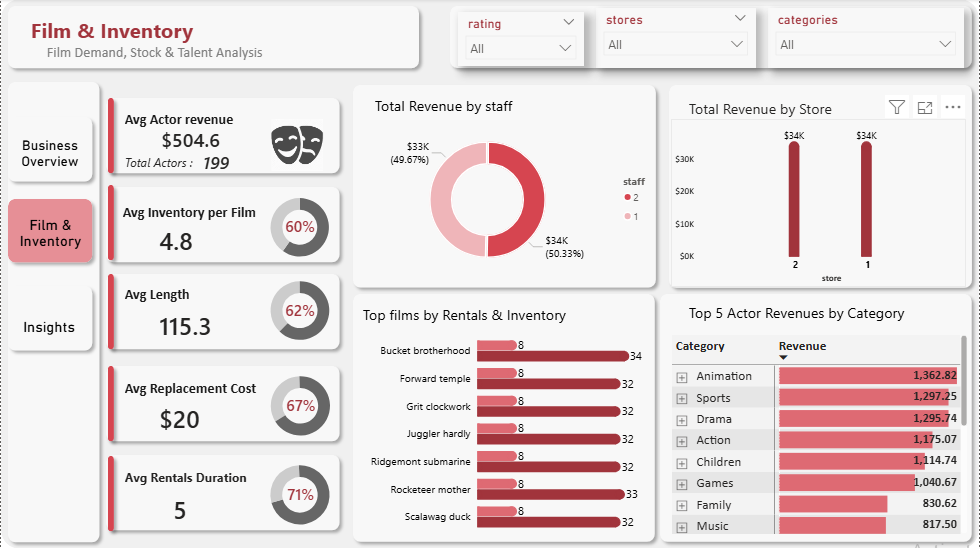

Layout of this report page (visuals, bound fields, positions):
{"tool":"powerbi","page":{"name":"film & inventory","canvas":[1280,720],"ordinal":1},"visuals":[{"type":"shape","box":[0,0,1280.2,720],"z":0},{"type":"shape","box":[853.8,377.1,426.2,342.4],"z":1000},{"type":"shape","box":[865.4,103.7,414.7,283.7],"z":2000},{"type":"shape","box":[452.2,377.1,413.2,342.4],"z":3000},{"type":"pivotTable","fields":{"Rows":["best actor vs avg category.category","best actor vs avg category.actor_name"],"Values":["Sum(best actor vs avg category.revenue)"]},"box":[872.6,434.9,397.3,270.2],"z":4000},{"type":"shape","box":[0,0,556.2,99.7],"z":5000},{"type":"shape","box":[0,99.4,138,620.6],"z":6000},{"type":"shape","box":[578.7,0,701.3,99.4],"z":7000},{"type":"shape","box":[128.2,121,324,116.6],"z":8000},{"type":"shape","box":[452.2,104,414.6,283.2],"z":9000},{"type":"donutChart","fields":{"Category":["staff.staff_id"],"Y":["Sum(payment.amount)"]},"box":[453.6,157.5,413.2,210.9],"z":10000},{"type":"shape","box":[128.2,237.6,324,116.6],"z":11000},{"type":"shape","box":[128.2,351.4,324,116.6],"z":12000},{"type":"shape","box":[128.2,470.9,324,116.6],"z":13000},{"type":"shape","box":[128.2,587.5,324,116.6],"z":14000},{"type":"columnChart","fields":{"Category":["store.store_id"],"Y":["Sum(payment.amount)"]},"box":[877,157,385.9,220.3],"z":15000},{"type":"clusteredBarChart","fields":{"Category":["film.title"],"Y":["CountNonNull(inventory.inventory_id)","CountNonNull(rental.rental_id)"]},"box":[468.1,419,375.6,293.3],"z":16000},{"type":"textbox","box":[34.6,17.3,544.3,64.8],"z":17000},{"type":"textbox","box":[54.7,51.8,542.9,37.4],"z":18000},{"type":"textbox","box":[157,139.7,162.7,37.4],"z":19000},{"type":"textbox","box":[154.1,262.1,253.4,37.4],"z":20000},{"type":"textbox","box":[157,368.6,162.7,37.4],"z":21000},{"type":"textbox","box":[157,492.5,237.6,37.4],"z":22000},{"type":"textbox","box":[157,610.6,210.2,37.4],"z":23000},{"type":"shape","box":[131,121,25.9,116.6],"z":24000},{"type":"shape","box":[131,234.7,25.9,116.6],"z":25000},{"type":"shape","box":[131,351.4,25.9,116.6],"z":26000},{"type":"shape","box":[131,470.9,25.9,116.6],"z":27000},{"type":"shape","box":[131,589,25.9,116.6],"z":28000},{"type":"cardVisual","fields":{"Data":["actor.total actor"]},"box":[236.2,178.6,103.7,69.1],"z":29000},{"type":"cardVisual","fields":{"Data":["actor.avg inventory per film"]},"box":[178.6,273.6,167,80.6],"z":30000},{"type":"cardVisual","fields":{"Data":["actor.avg length"]},"box":[178.6,387.4,154.1,76.3],"z":31000},{"type":"cardVisual","fields":{"Data":["actor.avg replacement cost"]},"box":[178.6,509.8,154.1,76.3],"z":32000},{"type":"cardVisual","fields":{"Data":["actor.avg rentals duration"]},"box":[196.5,629.9,137.2,72.2],"z":33000},{"type":"image","box":[290.4,157.5,193.6,67.9],"z":34000},{"type":"cardVisual","fields":{"Data":["actor.per avg replacement cost"]},"box":[343.8,494.1,101.1,72.2],"z":35000},{"type":"donutChart","fields":{"Y":["actor.per avg inventory per film","actor.remaining avg inventory%"]},"box":[317.8,245.6,145.9,105.5],"z":36000},{"type":"cardVisual","fields":{"Data":["actor.per avg inventory per film"]},"box":[342.4,242.7,109.8,106.9],"z":37000},{"type":"donutChart","fields":{"Y":["actor.remaining avh length%","actor.per avg length"]},"box":[336.6,355.4,109.8,106],"z":38000},{"type":"cardVisual","fields":{"Data":["actor.per avg length"]},"box":[342.4,345.3,101.1,119.9],"z":39000},{"type":"donutChart","fields":{"Y":["actor.remaing avh replacement cost","actor.per avg replacement cost"]},"box":[338.1,479.6,108.4,106.9],"z":40000},{"type":"donutChart","fields":{"Y":["actor.per rentals duration","actor.remaining pec rentals duration"]},"box":[336.6,595.2,109.8,106.9],"z":41000},{"type":"cardVisual","fields":{"Data":["actor.per rentals duration"]},"box":[345.3,595.2,102.6,101.1],"z":42000},{"type":"textbox","box":[484,121.4,260,37.6],"z":43000},{"type":"textbox","box":[895.7,393,351.1,37.6],"z":44000},{"type":"textbox","box":[468.1,395.8,319.3,37.6],"z":45000},{"type":"textbox","box":[895.7,125.7,260,36.1],"z":46000},{"type":"slicer","fields":{"Values":["film.rating"]},"box":[598.1,17.3,164.7,70.8],"z":47000},{"type":"slicer","fields":{"Values":["store.store_id"]},"box":[779,11.5,208.8,77.8],"z":48000},{"type":"slicer","fields":{"Values":["category.name"]},"box":[1003.7,11.5,256.3,77.8],"z":49000},{"type":"shape","box":[0,252.8,128.6,101.1],"z":50000},{"type":"shape","box":[0,367,128.6,102.6],"z":51000},{"type":"shape","box":[0,145.9,128.6,102.6],"z":52000},{"type":"actionButton","box":[13,408.8,99.7,40.5],"z":53000},{"type":"actionButton","box":[14.4,169,99.7,65],"z":54000},{"type":"textbox","box":[0,278.8,130,69.3],"z":55000},{"type":"cardVisual","fields":{"Data":["actor.avg actore revenue"]},"box":[180,149.8,162.7,66.2],"z":56000},{"type":"textbox","box":[157,197.3,108,37.4],"z":57000}]}

Visuals, with their boxes in screenshot pixels (x1, y1, x2, y2), scaled from the page's 1280x720 canvas onto the 980x548 screenshot:
shape: [0, 0, 979, 547]
shape: [654, 287, 979, 547]
shape: [663, 79, 979, 295]
shape: [346, 287, 663, 547]
pivotTable - best actor vs avg category.category x best actor vs avg category.actor_name: [668, 331, 972, 537]
shape: [0, 0, 426, 76]
shape: [0, 76, 106, 547]
shape: [443, 0, 979, 76]
shape: [98, 92, 346, 181]
shape: [346, 79, 664, 295]
donutChart - staff.staff_id x Sum(payment.amount): [347, 120, 664, 280]
shape: [98, 181, 346, 270]
shape: [98, 267, 346, 356]
shape: [98, 358, 346, 447]
shape: [98, 447, 346, 536]
columnChart - store.store_id x Sum(payment.amount): [671, 119, 967, 287]
clusteredBarChart - film.title x CountNonNull(inventory.inventory_id): [358, 319, 646, 542]
textbox: [26, 13, 443, 62]
textbox: [42, 39, 458, 68]
textbox: [120, 106, 245, 135]
textbox: [118, 199, 312, 228]
textbox: [120, 281, 245, 309]
textbox: [120, 375, 302, 403]
textbox: [120, 465, 281, 493]
shape: [100, 92, 120, 181]
shape: [100, 179, 120, 267]
shape: [100, 267, 120, 356]
shape: [100, 358, 120, 447]
shape: [100, 448, 120, 537]
cardVisual - actor.total actor: [181, 136, 260, 189]
cardVisual - actor.avg inventory per film: [137, 208, 265, 270]
cardVisual - actor.avg length: [137, 295, 255, 353]
cardVisual - actor.avg replacement cost: [137, 388, 255, 446]
cardVisual - actor.avg rentals duration: [150, 479, 255, 534]
image: [222, 120, 371, 172]
cardVisual - actor.per avg replacement cost: [263, 376, 341, 431]
donutChart - actor.per avg inventory per film x actor.remaining avg inventory%: [243, 187, 355, 267]
cardVisual - actor.per avg inventory per film: [262, 185, 346, 266]
donutChart - actor.remaining avh length% x actor.per avg length: [258, 270, 342, 351]
cardVisual - actor.per avg length: [262, 263, 340, 354]
donutChart - actor.remaing avh replacement cost x actor.per avg replacement cost: [259, 365, 342, 446]
donutChart - actor.per rentals duration x actor.remaining pec rentals duration: [258, 453, 342, 534]
cardVisual - actor.per rentals duration: [264, 453, 343, 530]
textbox: [371, 92, 570, 121]
textbox: [686, 299, 955, 328]
textbox: [358, 301, 603, 330]
textbox: [686, 96, 885, 123]
slicer - film.rating: [458, 13, 584, 67]
slicer - store.store_id: [596, 9, 756, 68]
slicer - category.name: [768, 9, 965, 68]
shape: [0, 192, 98, 269]
shape: [0, 279, 98, 357]
shape: [0, 111, 98, 189]
actionButton: [10, 311, 86, 342]
actionButton: [11, 129, 87, 178]
textbox: [0, 212, 100, 265]
cardVisual - actor.avg actore revenue: [138, 114, 262, 164]
textbox: [120, 150, 203, 179]
